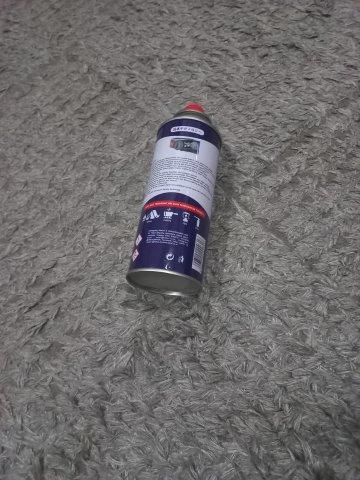kaleng: (126, 104, 221, 298)
